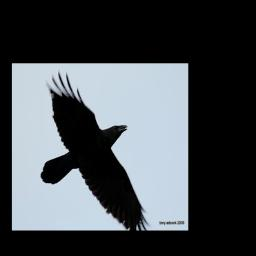Crow: (39, 69, 150, 231)
